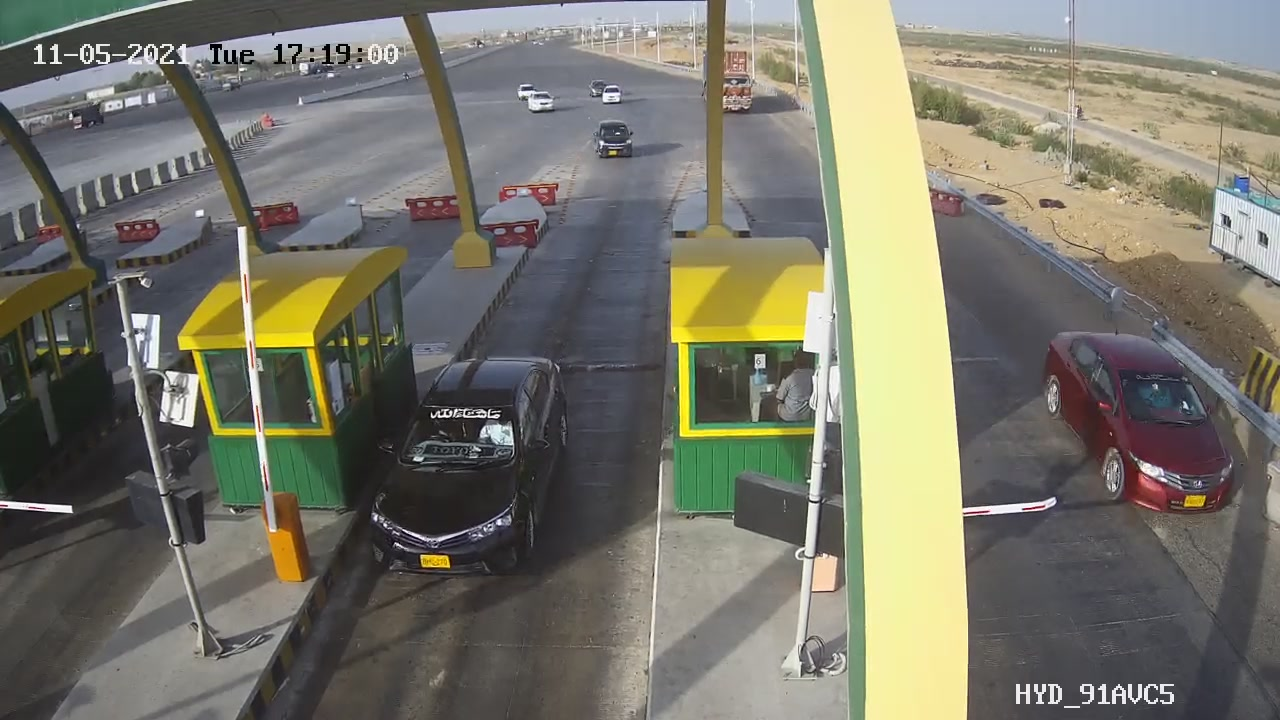F1: (351, 342, 591, 592)
